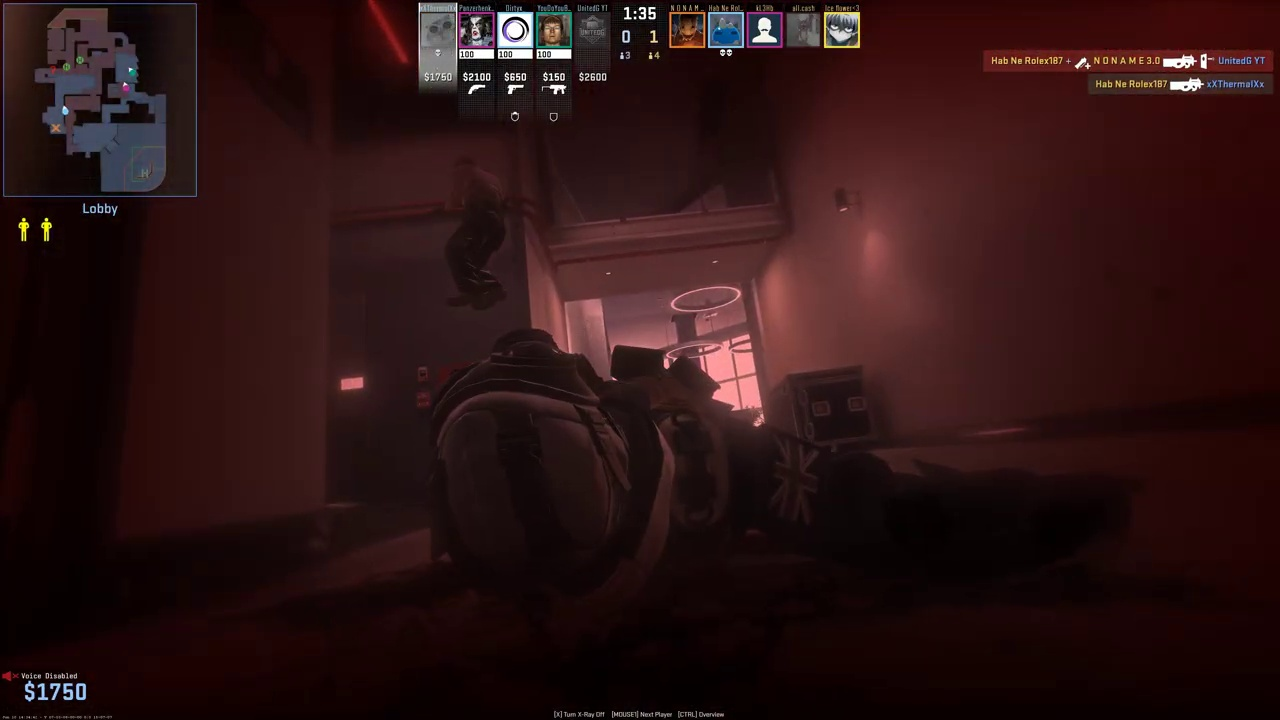Terrorist: (439, 157, 506, 312)
